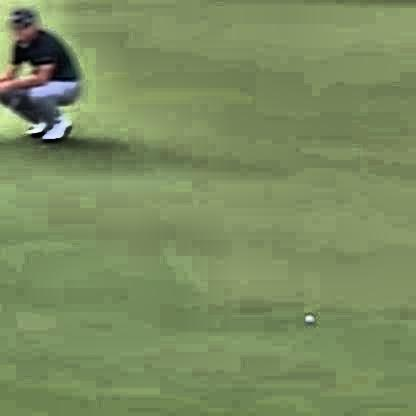golfball: (300, 311, 313, 321)
